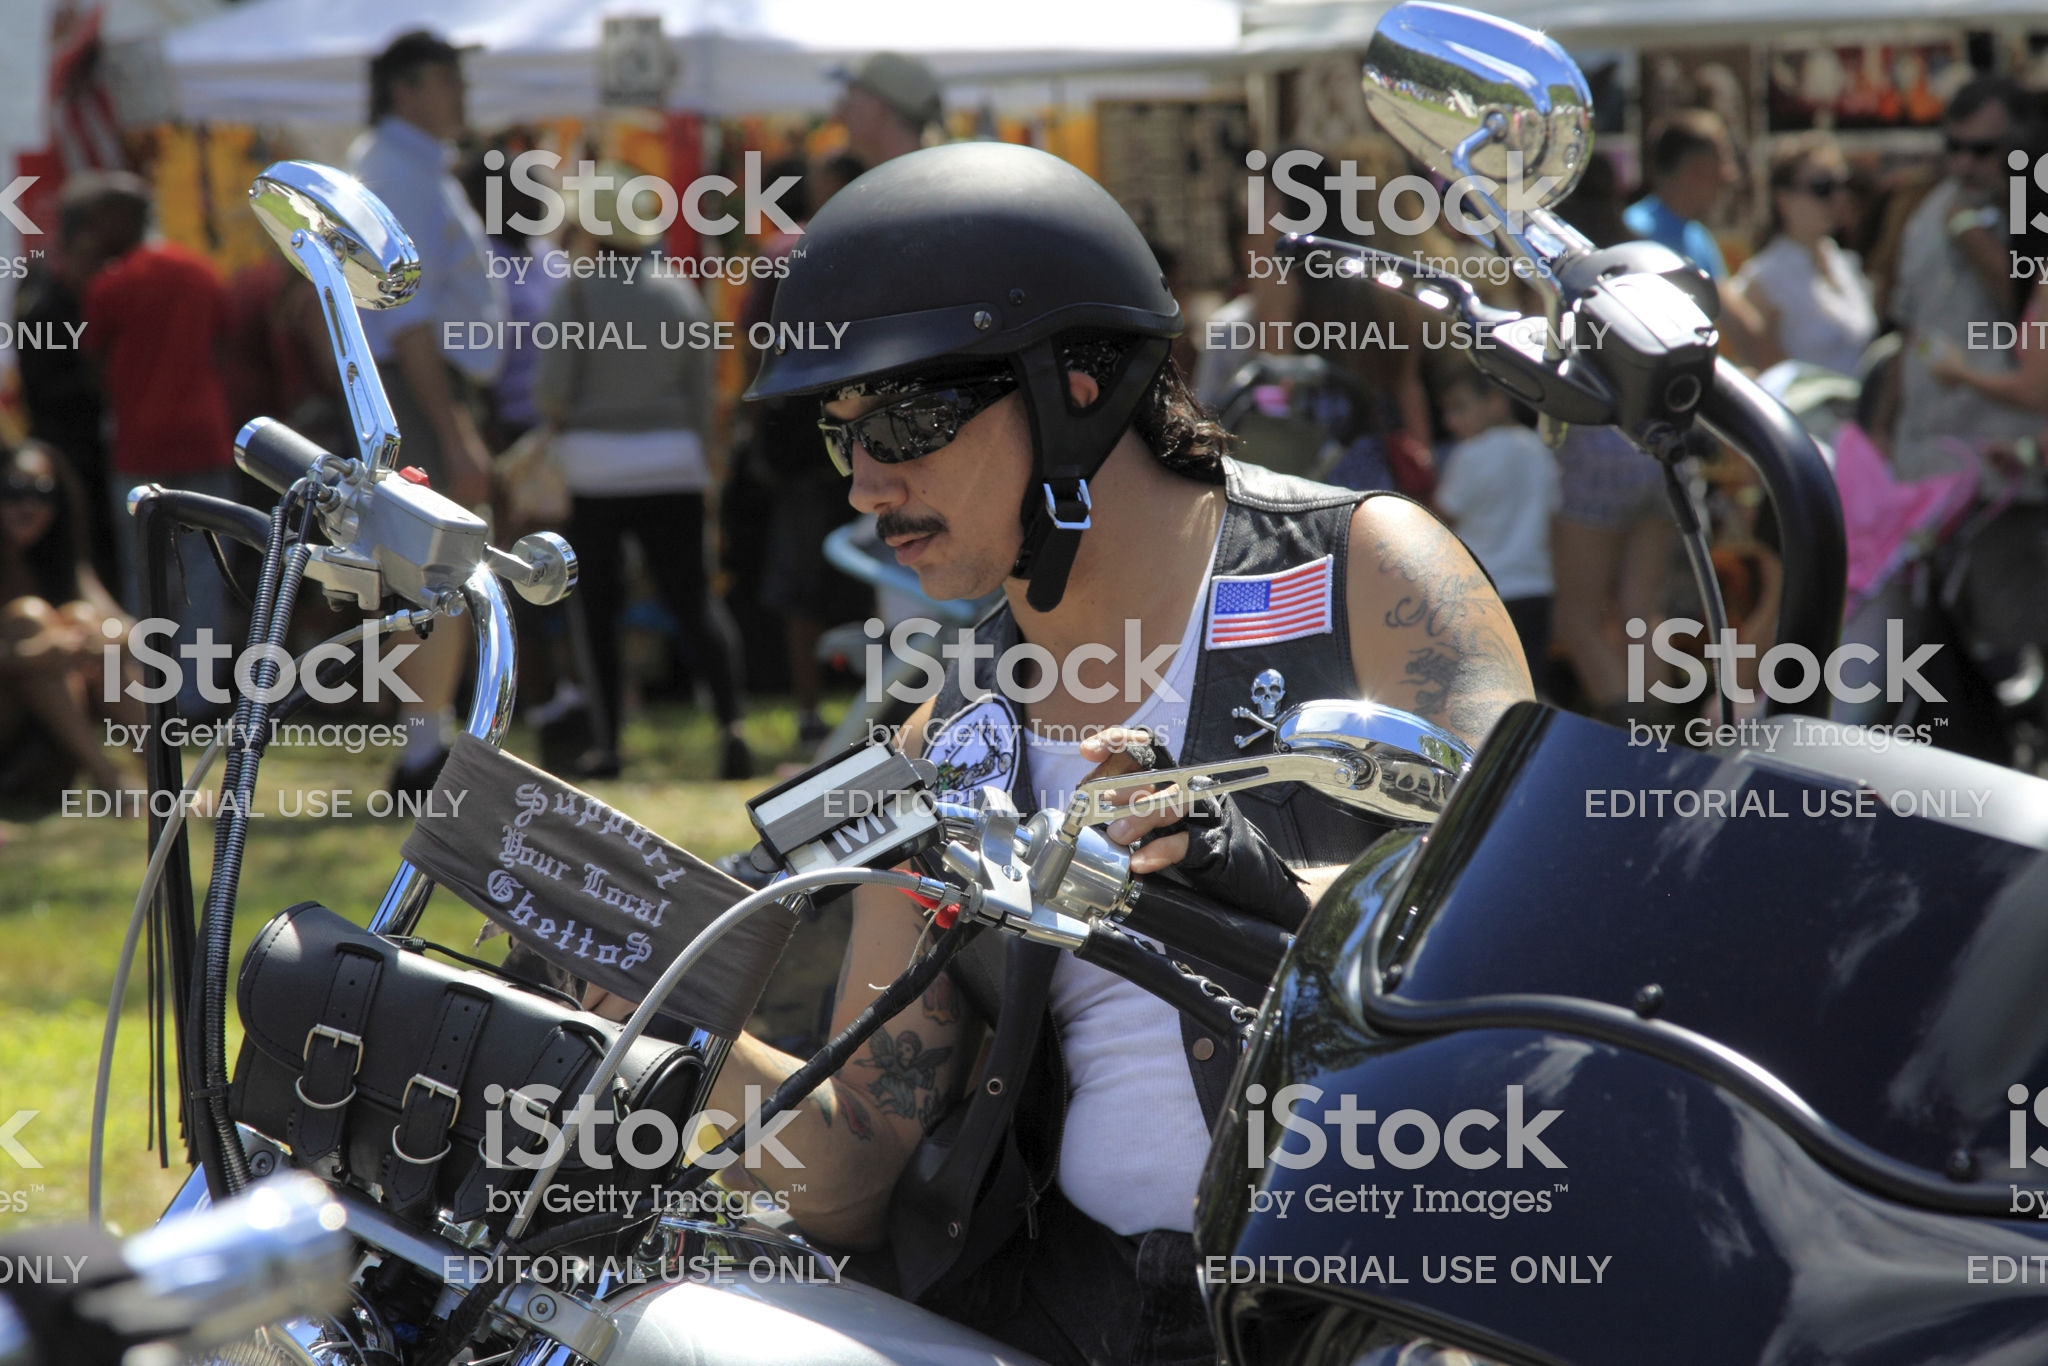helmet: (748, 119, 1196, 444)
